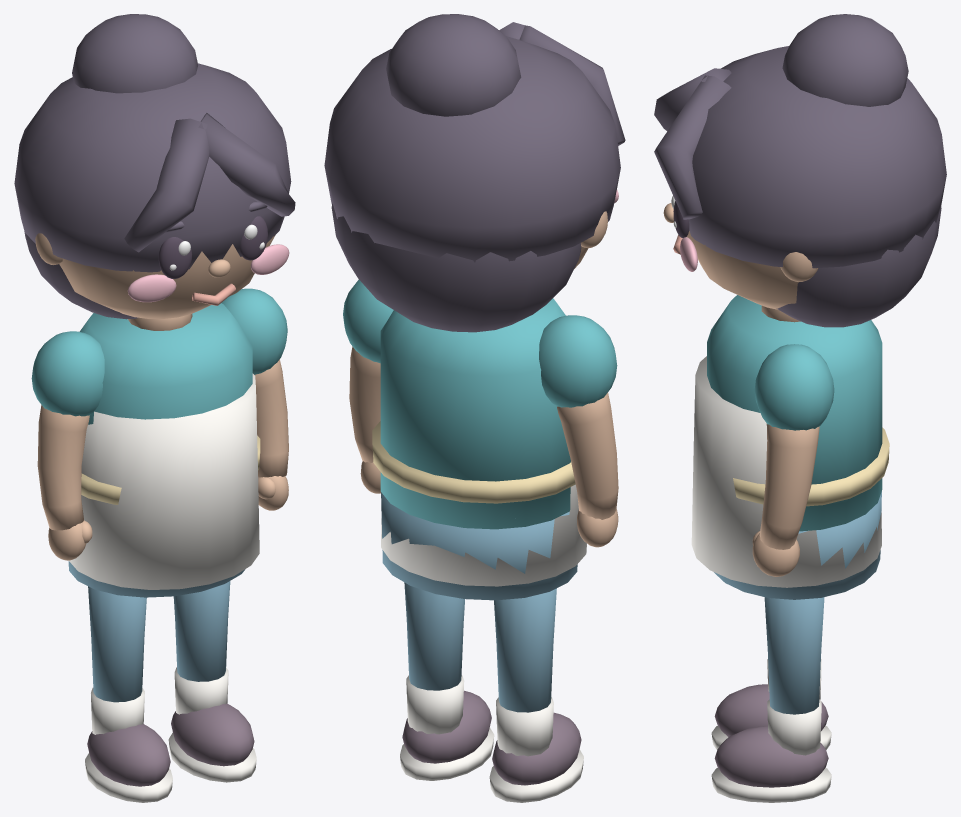
File: Char_FriendNina.fbx
3 renders of one model, left to right at view 1: azimuth 30°, elevation 25°; view 2: azimuth 150°, elevation 25°; view 3: azimuth 270°, elevation 25°, orthographic. The views are drawn at different scales.
Visible parts, largest first — view 1: Torso, LegL, LegR, ArmL, ArmR; view 2: Torso, LegL, LegR, ArmL, ArmR; view 3: Torso, LegR, ArmR, LegL.
Part boxes in pixels (x1,y1,x2,y2): Torso: [14, 14, 295, 597]; LegL: [85, 586, 172, 802]; LegR: [168, 581, 256, 782]; ArmL: [31, 331, 104, 560]; ArmR: [221, 288, 288, 510]; Torso: [324, 14, 625, 600]; LegL: [489, 588, 583, 802]; LegR: [400, 582, 494, 780]; ArmL: [539, 315, 618, 547]; ArmR: [343, 279, 393, 493]; Torso: [654, 14, 946, 599]; LegR: [711, 597, 831, 802]; ArmR: [752, 344, 834, 576]; LegL: [711, 659, 831, 749].
Bounding box in the file's own units: 0.5773 × 1.62 × 0.577.
